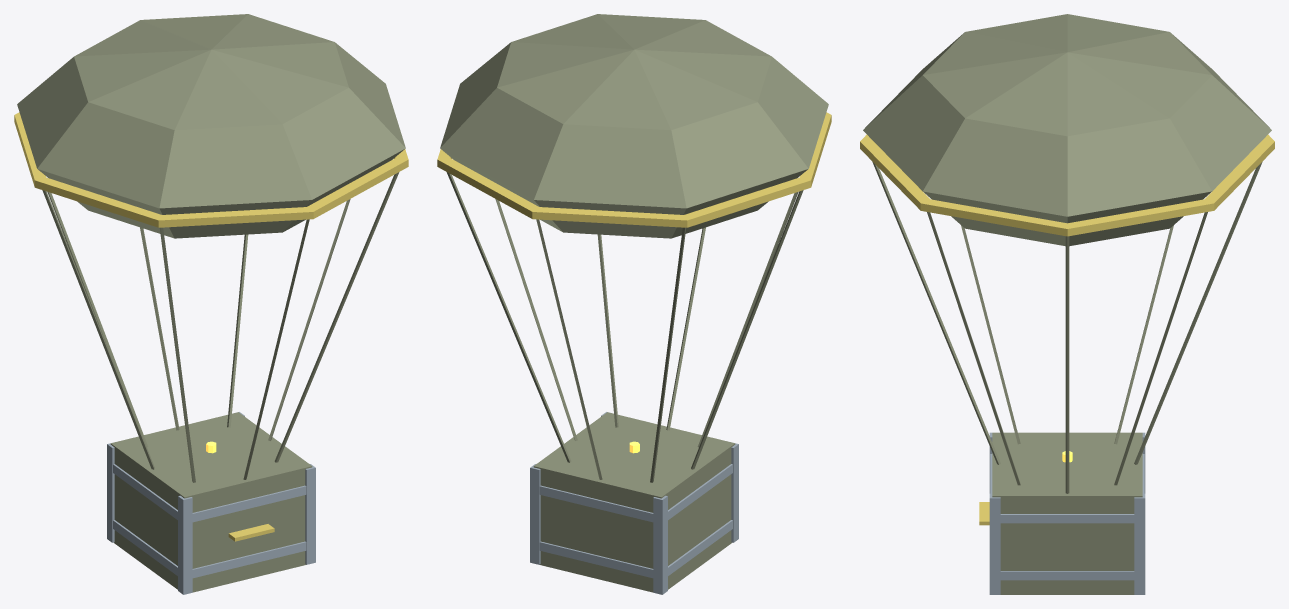
File: wipe-day-survival-island-airdrop-crate-ef2e0e2f__27454.glb
3 views of the same model, side by side, from view 1: azimuth 30°, elevation 25°; view 2: azimuth 150°, elevation 25°; view 3: azimuth 270°, elevation 25° (orthographic).
Visible parts, largest first — view 1: airdrop-crate; view 2: airdrop-crate; view 3: airdrop-crate.
Part boxes in pixels (bbox=[...]): airdrop-crate: bbox=[14, 14, 408, 594]; airdrop-crate: bbox=[437, 14, 831, 594]; airdrop-crate: bbox=[860, 14, 1274, 594].
Size of the model in its own units: 3.04 by 4.13 by 3.04.
